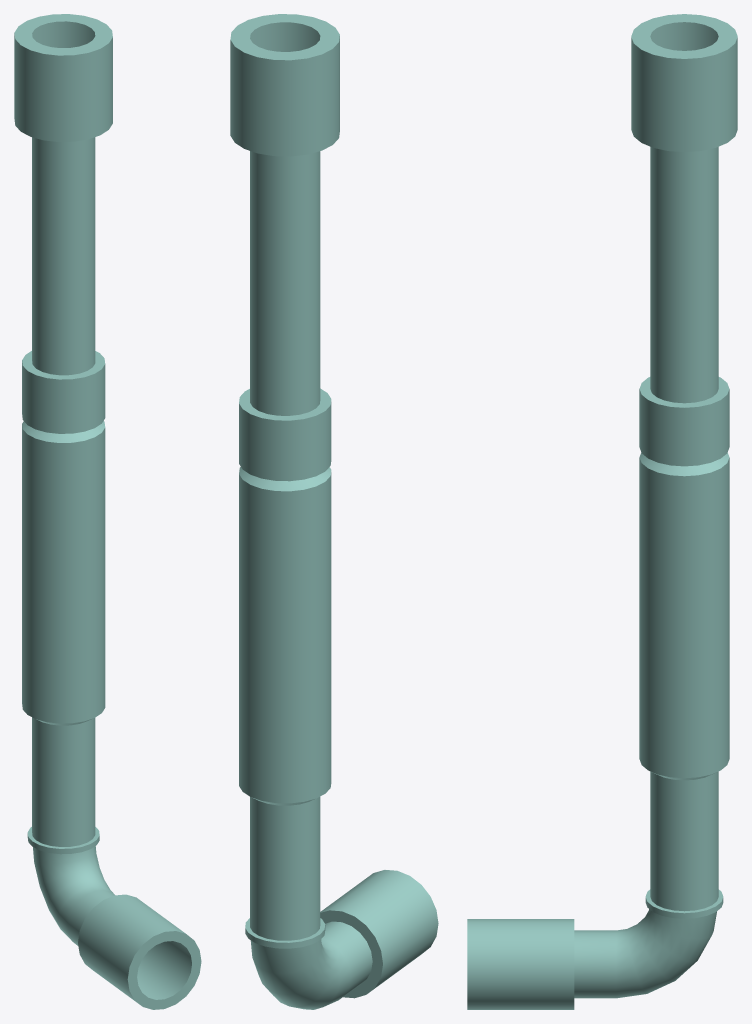
The model's file is Pipe_Vertical_Small_4.fbx.
3 renders of one model, left to right at view 1: azimuth 30°, elevation 25°; view 2: azimuth 150°, elevation 25°; view 3: azimuth 270°, elevation 25°, orthographic. The views are drawn at different scales.
Visible parts, largest first — view 1: Pipe_Vertical_Small_4; view 2: Pipe_Vertical_Small_4; view 3: Pipe_Vertical_Small_4.
Boxes of the visible parts, bbox=[...] form: Pipe_Vertical_Small_4: bbox=[14, 14, 201, 1009]; Pipe_Vertical_Small_4: bbox=[230, 14, 438, 1009]; Pipe_Vertical_Small_4: bbox=[467, 14, 737, 1009].
Bounding box in the file's own units: 20.03 × 201 × 50.84.
